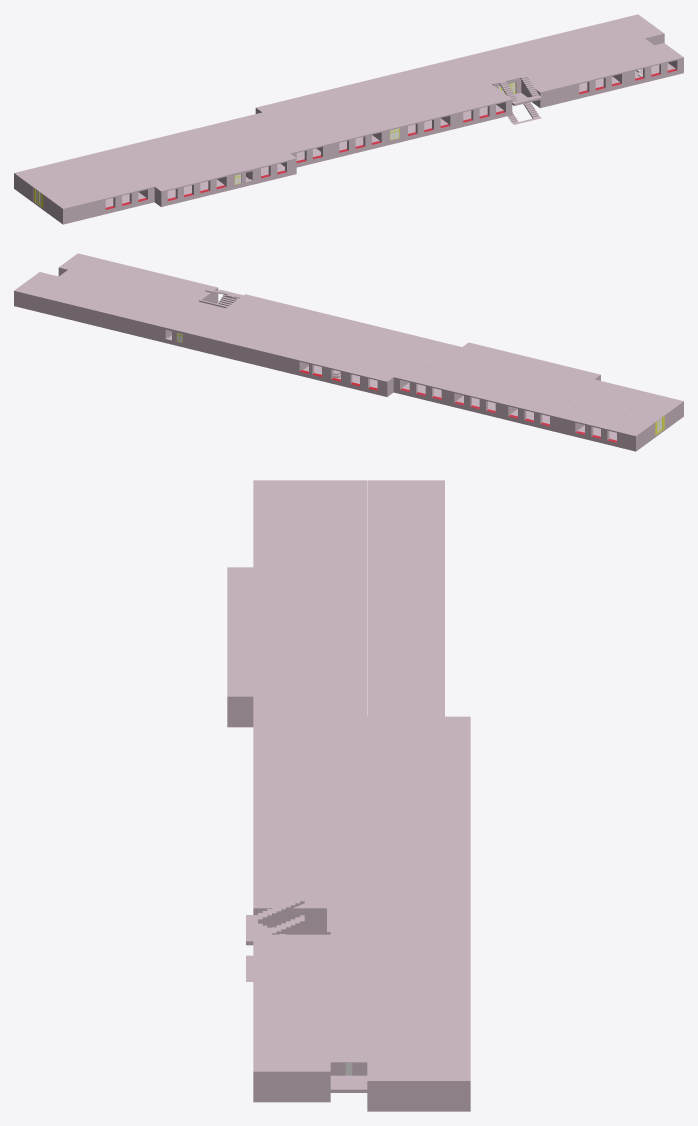
Rendered from all.fbx.
3 views of the same model, one above another, from view 1: azimuth 30°, elevation 25°; view 2: azimuth 150°, elevation 25°; view 3: azimuth 270°, elevation 25° (orthographic). The views are drawn at different scales.
Visible parts, largest first — view 1: Corridor, 316.007, 316.018, 316.012, 316.014, 316.010, 316.003, 316.008, 316.019, 316.002, 316.005, 316.013 (+11 smaller); view 2: 316.007, Corridor, 316.012, 316.014, 316.017, 316.016, 316.023, 316.015, 316.018, 316.005, 316.013, 316.008 (+10 smaller); view 3: Corridor, 316.007, 316.012, 316.014, 316.018, 316.005, 316.008, 316.017, 316.016, 316.013, 316.002, 316.019 (+11 smaller).
Boxes of the visible parts, x1,y1,x2,y2 form: Corridor: (34,38,653,209); 316.007: (485,14,664,70); 316.018: (135,154,232,206); 316.012: (351,57,489,103); 316.014: (255,84,376,126); 316.010: (313,115,388,158); 316.003: (553,56,628,99); 316.008: (437,85,512,128); 316.019: (79,172,154,215); 316.002: (382,98,456,141); 316.005: (609,43,683,86); 316.013: (228,139,296,184); 316.007: (14,272,189,342); Corridor: (59,270,664,437); 316.012: (184,313,319,374); 316.014: (294,340,412,396); 316.017: (569,406,655,451); 316.016: (502,389,587,434); 316.023: (393,363,466,405); 316.015: (448,376,520,418); 316.018: (505,357,600,393); 316.005: (58,253,131,280); 316.013: (443,342,509,371); 316.008: (226,294,299,321); Corridor: (330,480,367,1092); 316.007: (330,934,470,1111); 316.012: (367,807,470,914); 316.014: (367,716,470,806); 316.018: (227,567,330,635); 316.005: (253,1018,330,1102); 316.008: (253,855,330,934); 316.017: (367,480,444,545); 316.016: (367,545,444,610); 316.013: (227,656,330,727); 316.002: (253,802,330,855); 316.019: (253,514,330,567).
Size of the model in its own units: 19300 by 940 by 3300.
